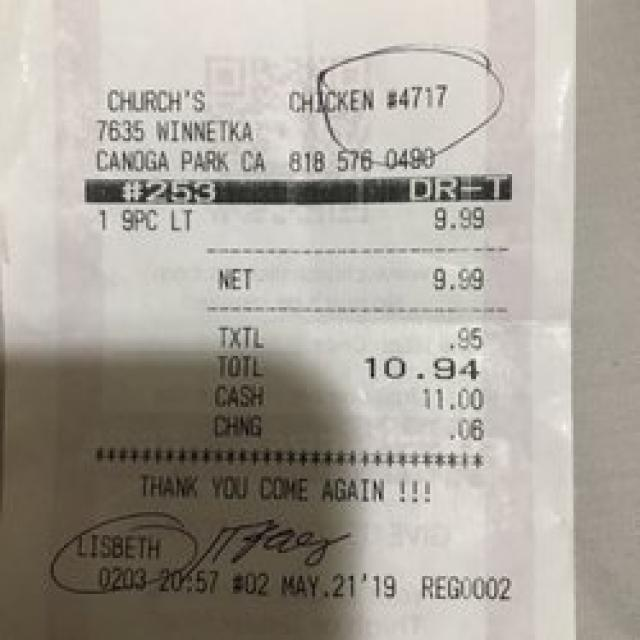TotalPrice: (205, 346, 492, 388)
